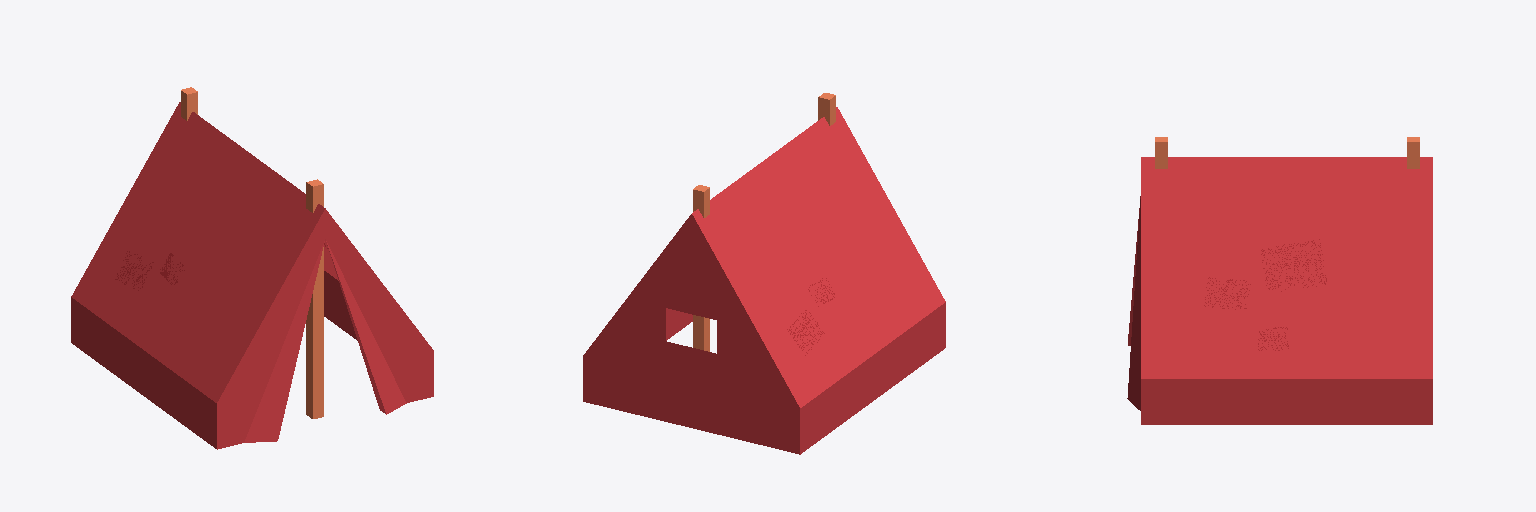
Rendered from tent_smallOpen.obj.
3 renders of one model, left to right at view 1: azimuth 30°, elevation 25°; view 2: azimuth 150°, elevation 25°; view 3: azimuth 270°, elevation 25°, orthographic.
Parts seen in each view (by area): view 1: tent_smallOpen; view 2: tent_smallOpen; view 3: tent_smallOpen.
Part boxes in pixels (left/top/right/bottom): tent_smallOpen: left=71, top=87, right=433, bottom=449; tent_smallOpen: left=583, top=93, right=945, bottom=454; tent_smallOpen: left=1127, top=137, right=1432, bottom=424.
Bounding box in the file's own units: 0.5476 × 0.5611 × 0.6664.